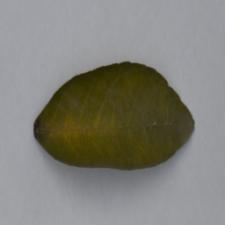Greening: (44, 70, 186, 162)
